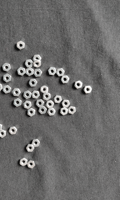nut: (17, 67, 26, 76), (3, 74, 12, 83), (17, 41, 25, 50), (3, 63, 11, 72), (25, 60, 34, 68), (33, 60, 42, 68), (61, 76, 70, 84), (34, 69, 43, 77), (29, 79, 38, 87), (84, 86, 93, 94), (54, 96, 63, 104), (23, 101, 32, 109), (36, 100, 45, 108), (28, 108, 36, 117), (39, 106, 47, 115), (68, 107, 77, 115), (32, 139, 40, 148), (20, 158, 28, 167), (49, 68, 57, 76), (57, 69, 65, 77), (26, 68, 34, 76), (75, 81, 83, 89), (41, 86, 49, 94), (3, 86, 11, 94), (24, 91, 32, 99), (32, 91, 40, 99), (43, 93, 51, 101), (14, 99, 22, 107), (46, 101, 54, 109), (62, 100, 70, 108), (48, 108, 56, 116), (61, 108, 69, 116), (9, 127, 17, 135), (28, 161, 36, 169), (12, 89, 21, 96), (26, 145, 35, 152), (33, 55, 42, 61), (0, 130, 6, 138), (0, 84, 3, 92), (0, 123, 2, 132)
